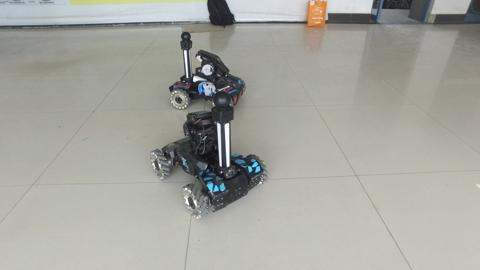chariot: (149, 113, 264, 223), (166, 33, 248, 111)
